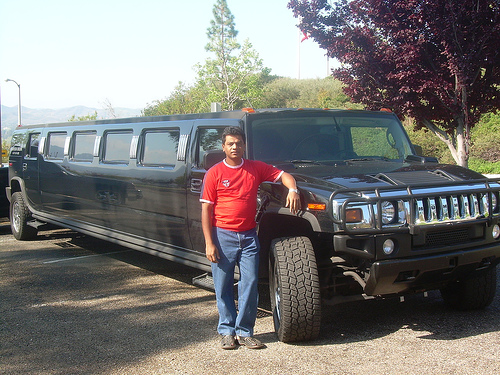without_mask: (220, 127, 247, 158)
